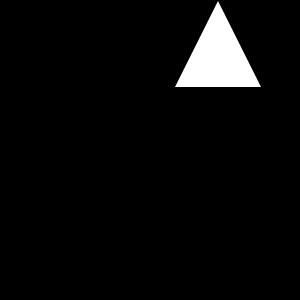triangle: (175, 1, 261, 87)
